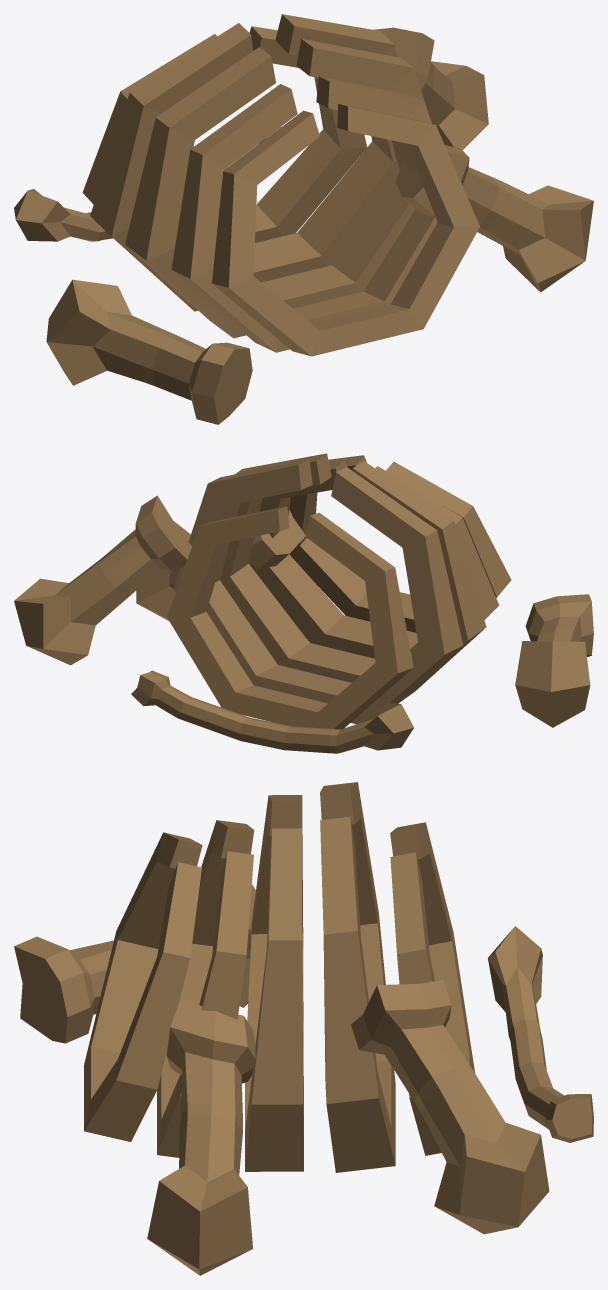
The model's file is BonePile.obj.
The picture shows the model from 3 angles, top to bottom: view 1: azimuth 30°, elevation 25°; view 2: azimuth 150°, elevation 25°; view 3: azimuth 270°, elevation 25°; orthographic projection. The views are drawn at different scales.
Visible parts, largest first — view 1: BonePile_Cylinder.003; view 2: BonePile_Cylinder.003; view 3: BonePile_Cylinder.003.
Boxes of the visible parts, left/top/right/bottom form: BonePile_Cylinder.003: left=14, top=14, right=593, bottom=424; BonePile_Cylinder.003: left=14, top=453, right=593, bottom=753; BonePile_Cylinder.003: left=14, top=782, right=593, bottom=1275.
Size of the model in its own units: 2.15 by 1.07 by 1.64.
